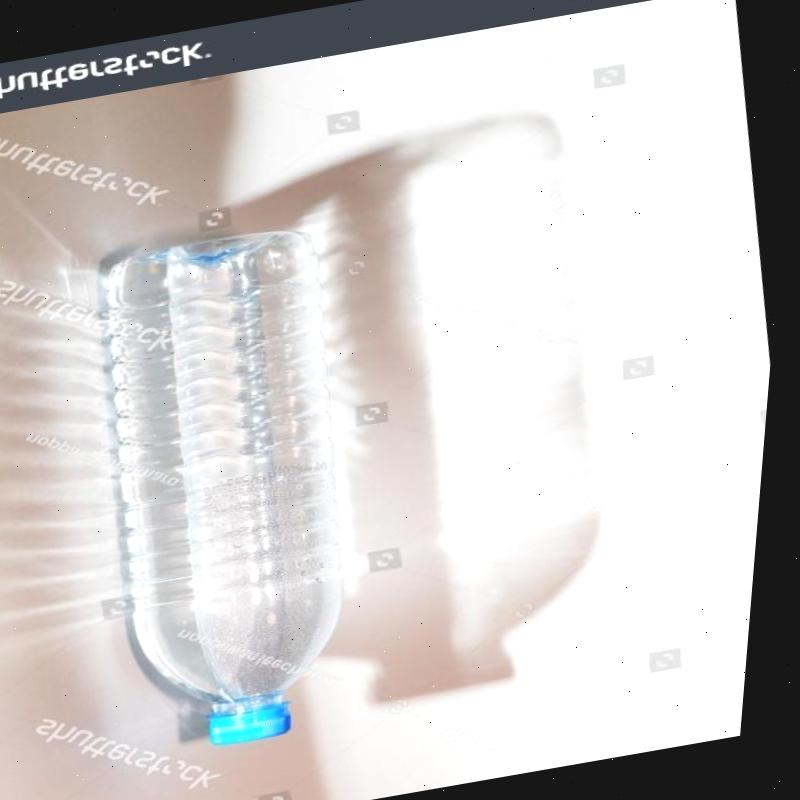botella: (63, 216, 410, 765)
